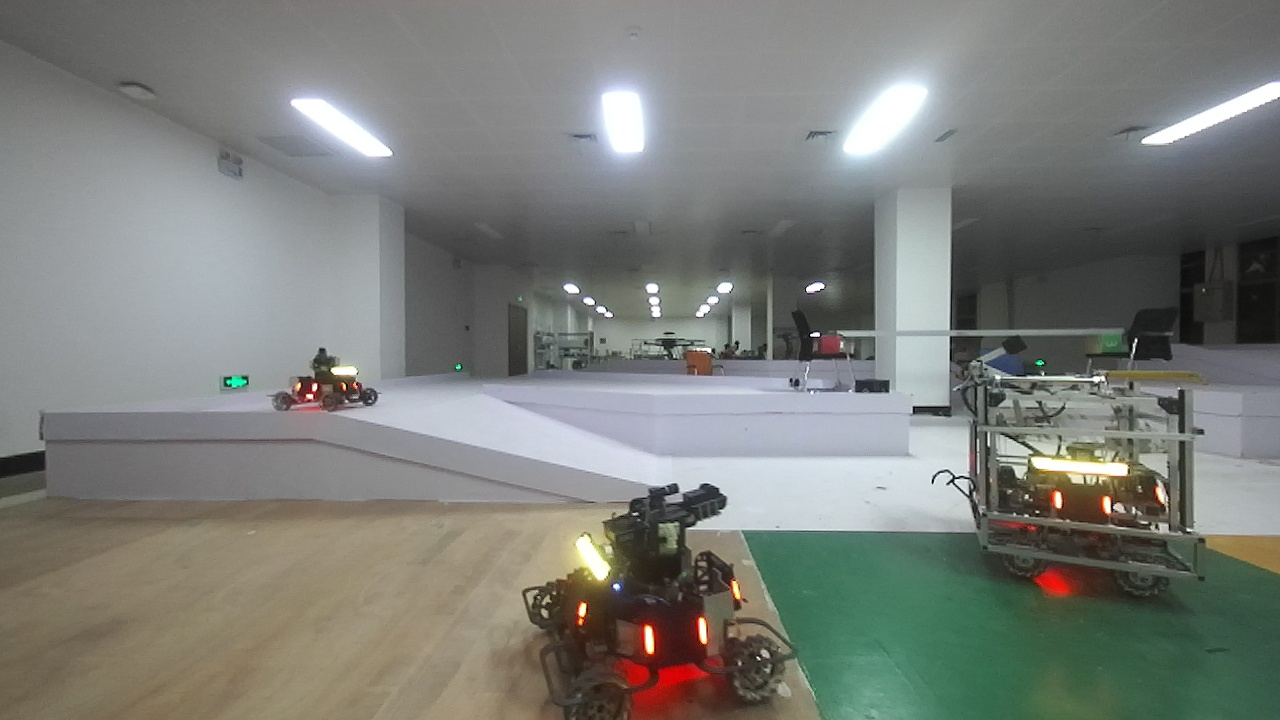car: (941, 327, 1217, 610), (518, 477, 797, 719), (270, 337, 388, 434)
